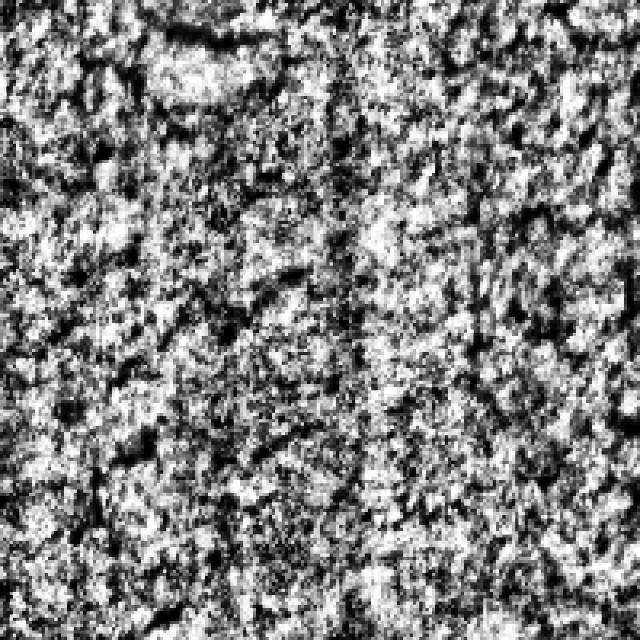Pitted_Surface: (394, 7, 634, 516), (12, 246, 326, 634), (6, 3, 304, 195)
